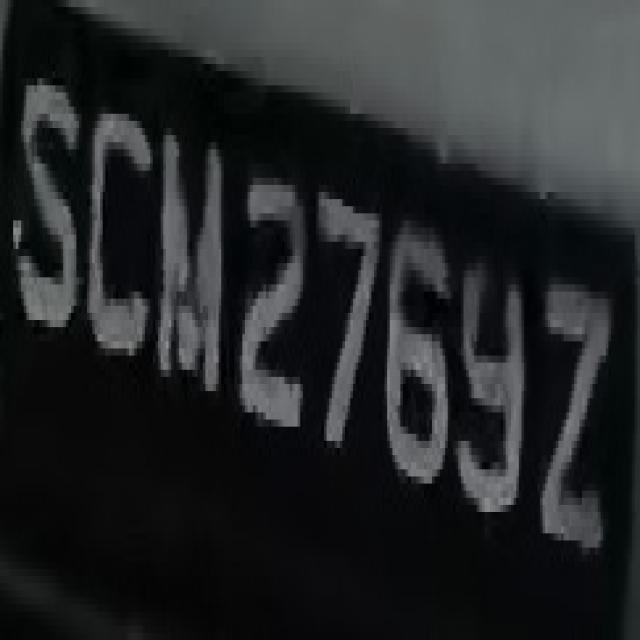2: (229, 149, 314, 441)
6: (374, 214, 456, 484)
7: (314, 164, 379, 462)
9: (456, 221, 532, 534)
C: (81, 78, 148, 370)
M: (153, 121, 226, 419)
S: (10, 50, 81, 370)
Z: (540, 256, 614, 583)
